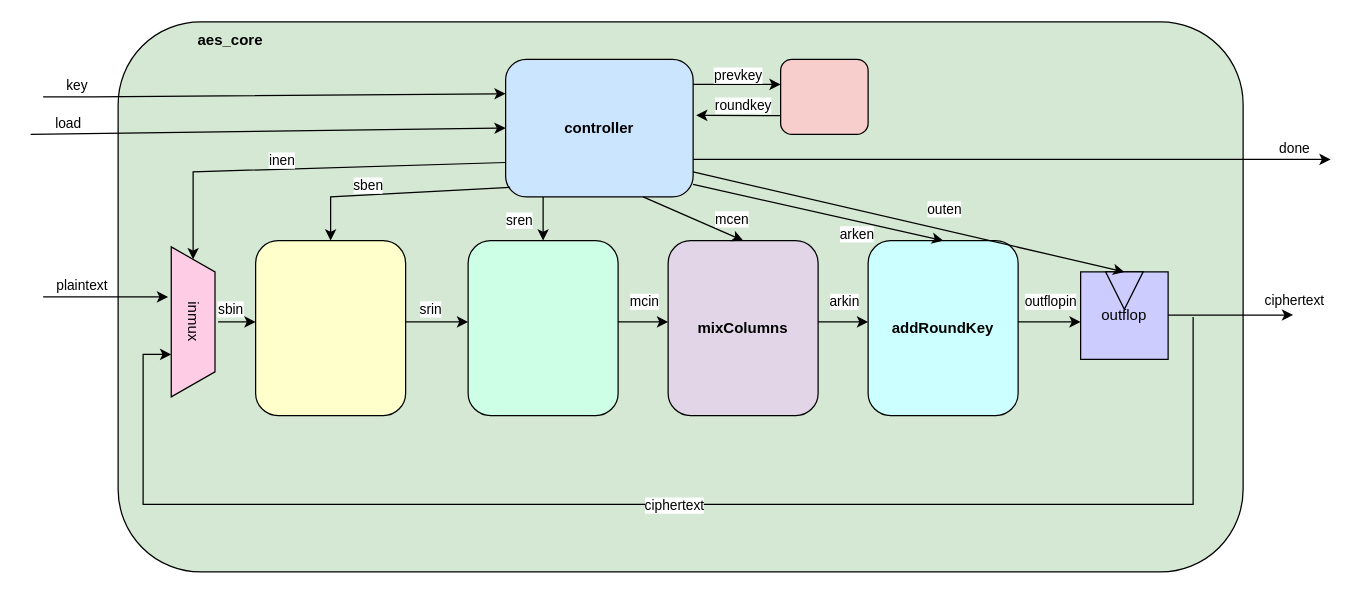
This 1363x594 diagram has some shape labels left out. The centre of each missing label's shape, as x and y in pixels:
"keyExpand" goes at pixel 823 96.
"shiftRows" goes at pixel 542 327.
"subBytes" goes at pixel 330 327.
